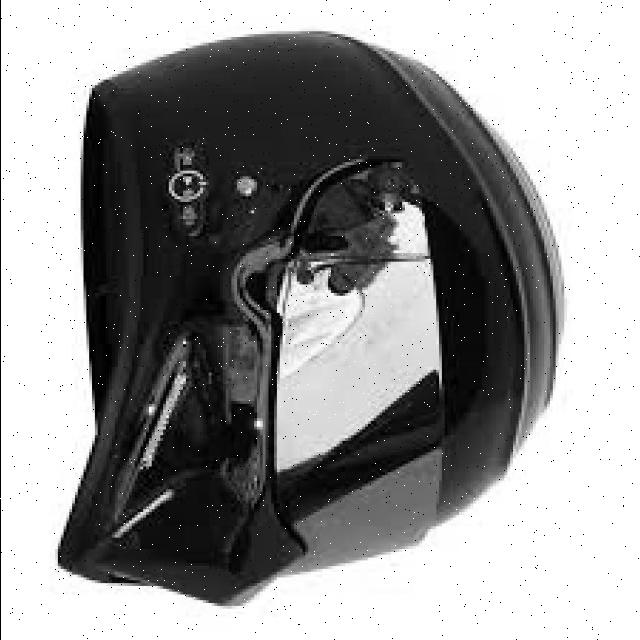Helmet: (59, 25, 568, 609)
